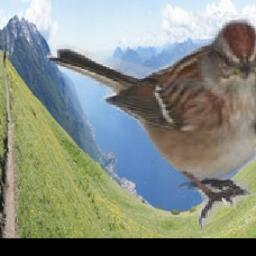Sparrow: (44, 13, 256, 234)
